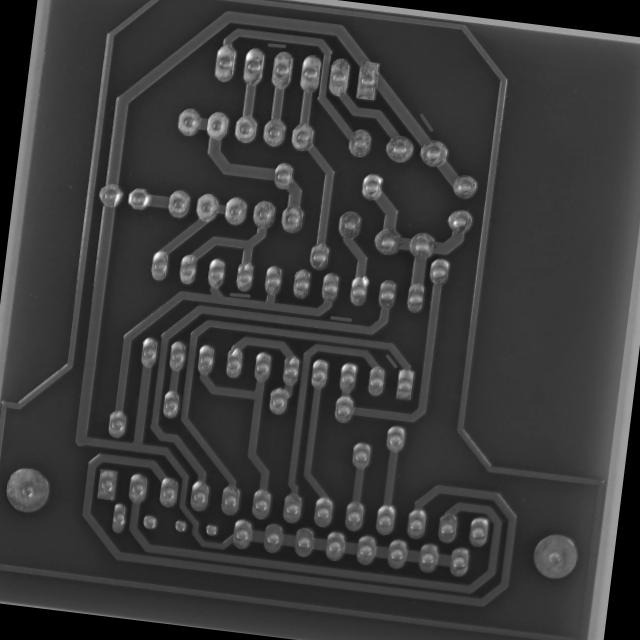spurious_copper: (413, 108, 438, 135), (260, 34, 291, 54), (225, 284, 254, 304), (378, 350, 402, 372), (324, 310, 356, 326)
